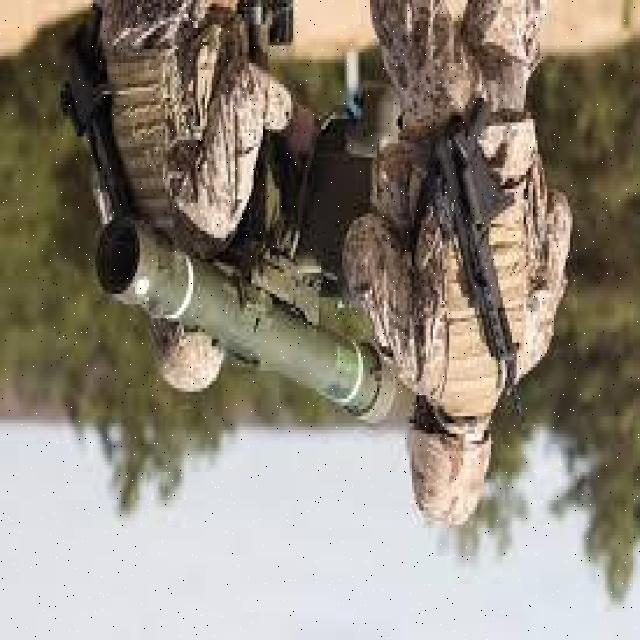bazooka: (89, 207, 407, 433)
